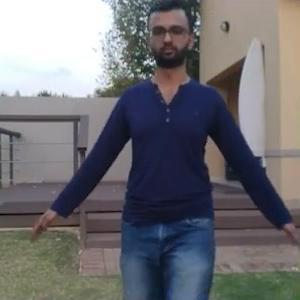land: (69, 42, 287, 299)
